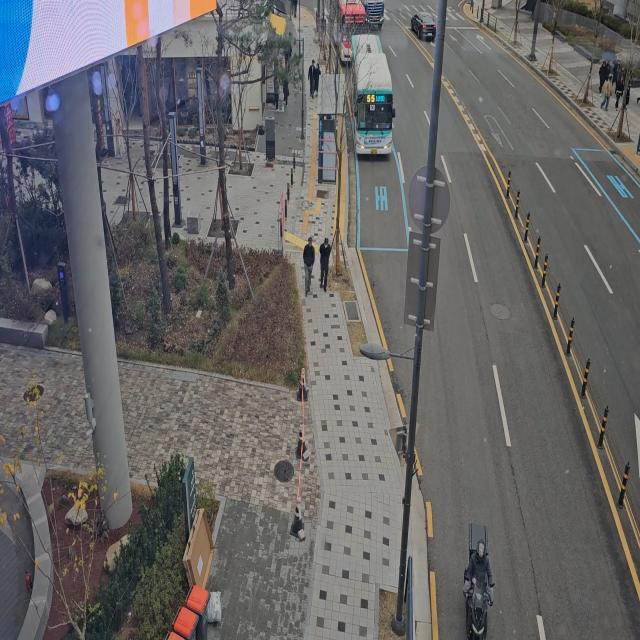Bus: (347, 28, 403, 162), (323, 0, 366, 64)
Car: (405, 5, 438, 45)
Motorcycle: (456, 507, 497, 640)
Truck: (359, 0, 392, 33)
